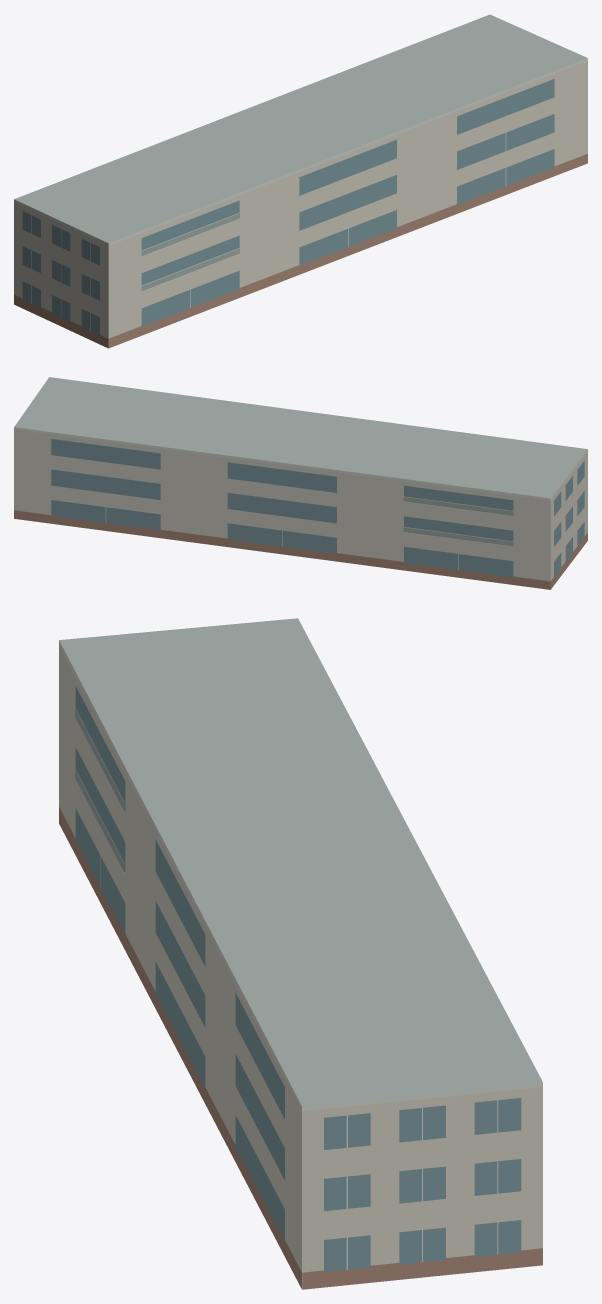
The model's file is survey-upis-32627495.glb.
3 views of the same model, one above another, from view 1: azimuth 30°, elevation 25°; view 2: azimuth 150°, elevation 25°; view 3: azimuth 270°, elevation 25° (orthographic). The views are drawn at different scales.
Visible parts, largest first — view 1: survey-upis-32627495.tmp; view 2: survey-upis-32627495.tmp; view 3: survey-upis-32627495.tmp.
Part boxes in pixels (<box>): survey-upis-32627495.tmp: <box>14,14,587,348</box>; survey-upis-32627495.tmp: <box>14,377,587,589</box>; survey-upis-32627495.tmp: <box>59,618,542,1289</box>.
Size of the model in its own units: 52.32 by 9.15 by 21.92.
